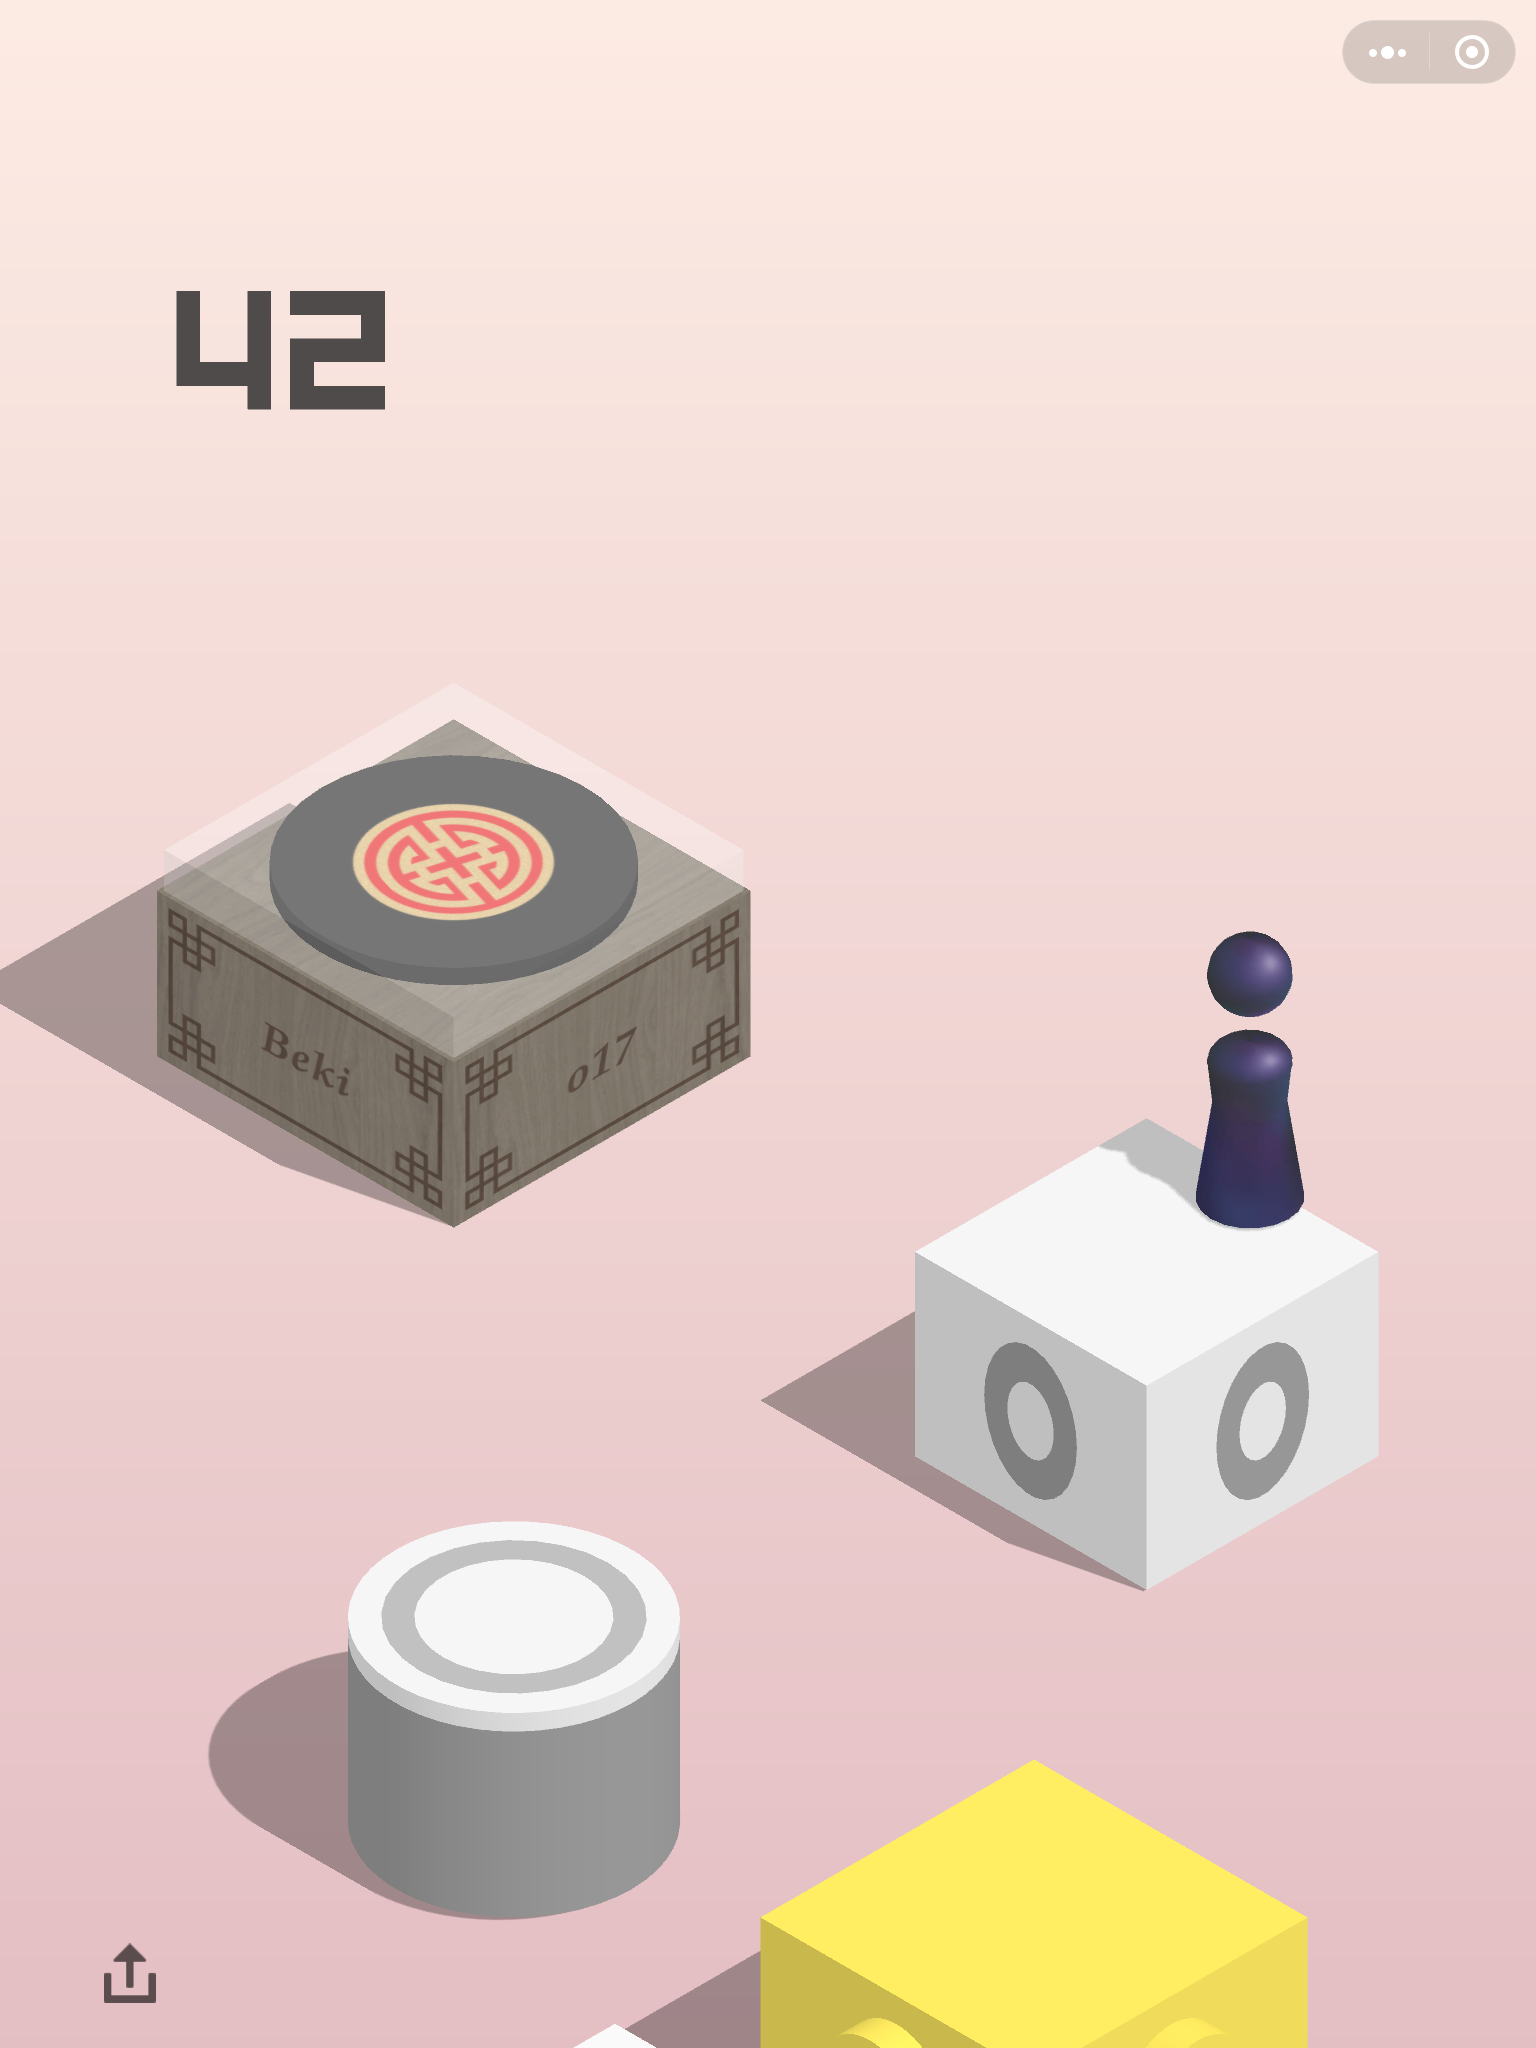c: (340, 1514, 687, 1925)
f: (152, 710, 755, 1232), (908, 1114, 1388, 1596), (753, 1755, 1313, 2048)
r: (1194, 922, 1312, 1232)
